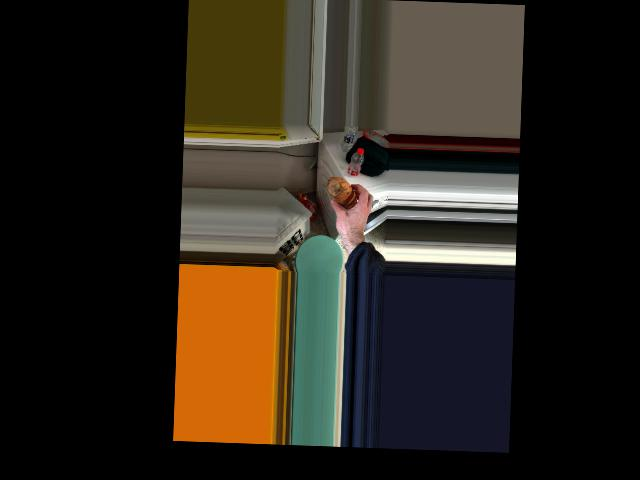sweet_potato: (327, 177, 357, 211)
